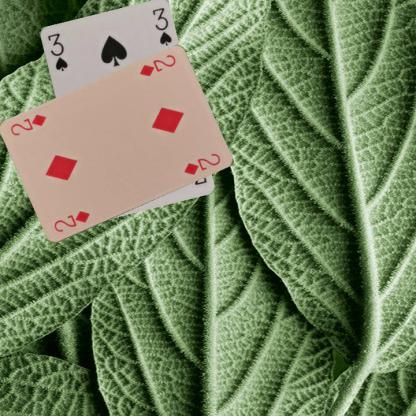2d: (136, 52, 177, 78), (51, 208, 91, 234)
3s: (44, 30, 69, 73)
